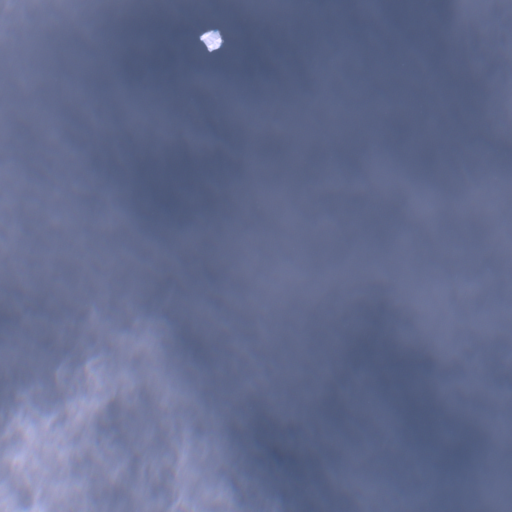Iceberg: (200, 31, 221, 51)
